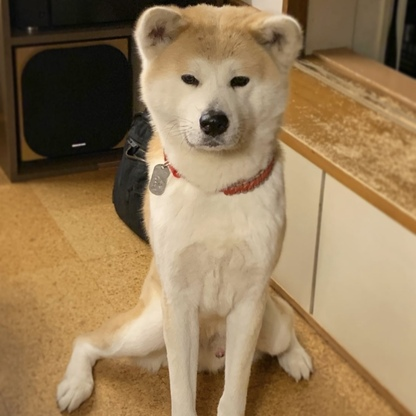akita: (50, 1, 318, 416)
